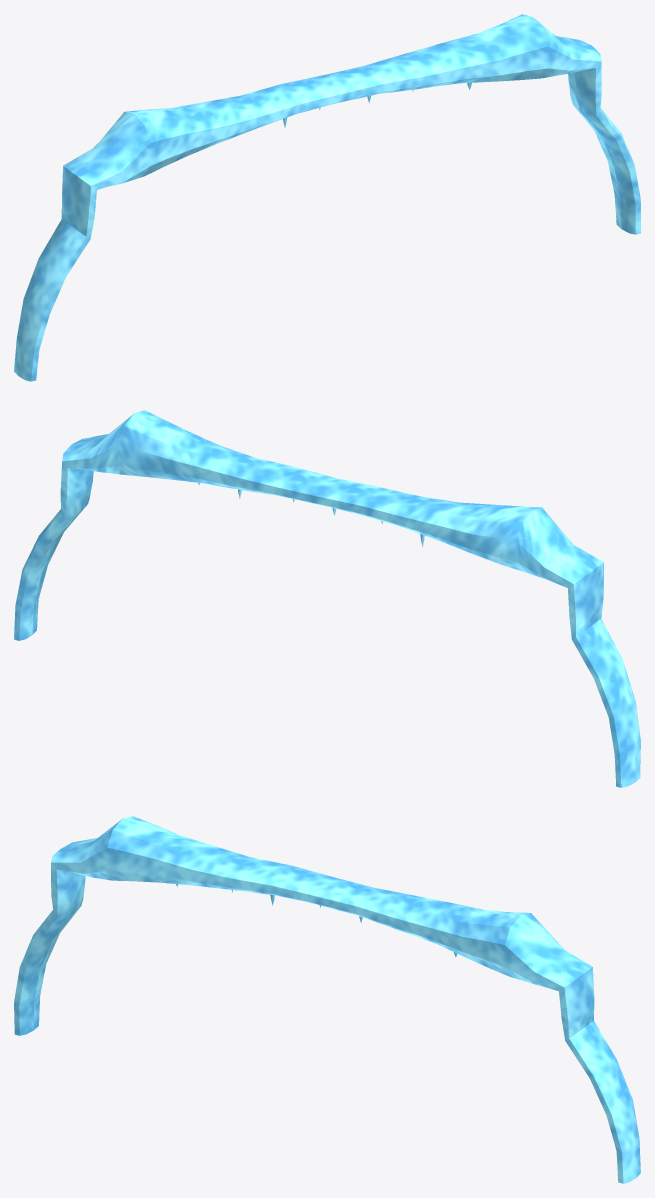
File: SM_IceBridge.glb
The picture shows the model from 3 angles, top to bottom: view 1: azimuth 30°, elevation 25°; view 2: azimuth 150°, elevation 25°; view 3: azimuth 330°, elevation 25°; orthographic projection.
Visible parts, largest first — view 1: SM_IceBridge; view 2: SM_IceBridge; view 3: SM_IceBridge.
Boxes of the visible parts, x1=… form: SM_IceBridge: x1=14, y1=14, x2=640, y2=381; SM_IceBridge: x1=14, y1=410, x2=640, y2=787; SM_IceBridge: x1=14, y1=816, x2=640, y2=1183.
Bounding box in the file's own units: 16.44 × 6.12 × 1.49.
Materials: 1 (1 with a texture image).
